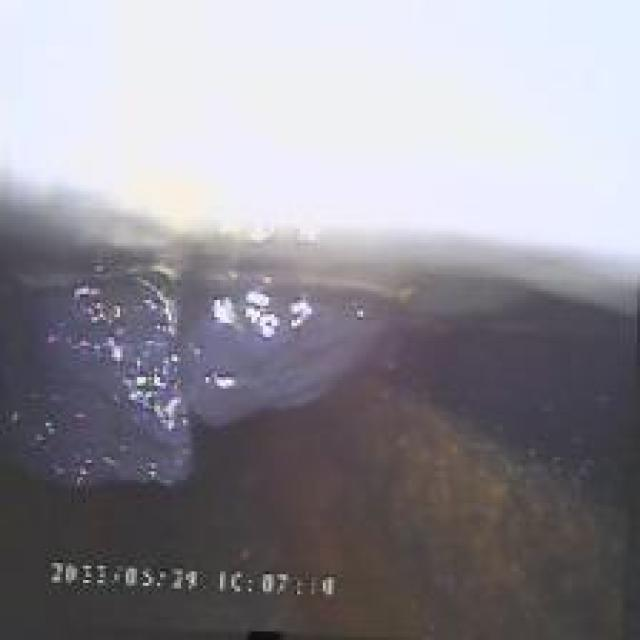stone: (17, 266, 389, 503)
